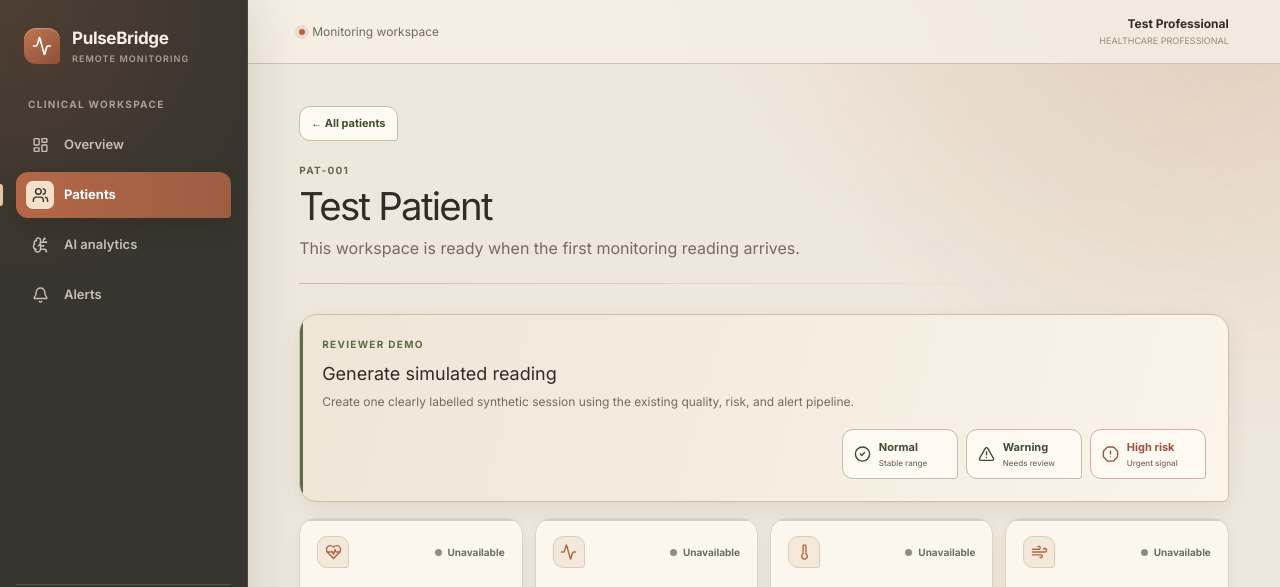
Test: professional workspace › renders an assigned patient detail route from real API-shaped responses
Check: the heading "Test Patient" is shown, box [299,182,492,228]
Click the button "High risk Urgent signal": (1148, 454) [1090,429,1206,479]
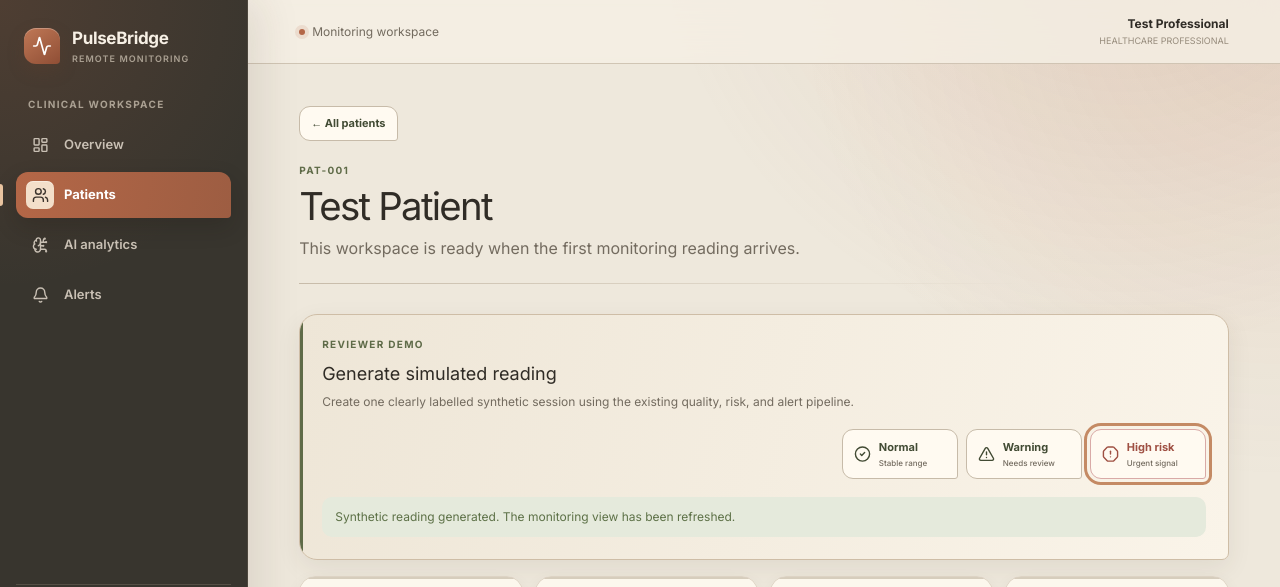
Check: the text "Synthetic reading generated. The monitoring view has been refreshed." is shown, box [322,497,1206,537]
